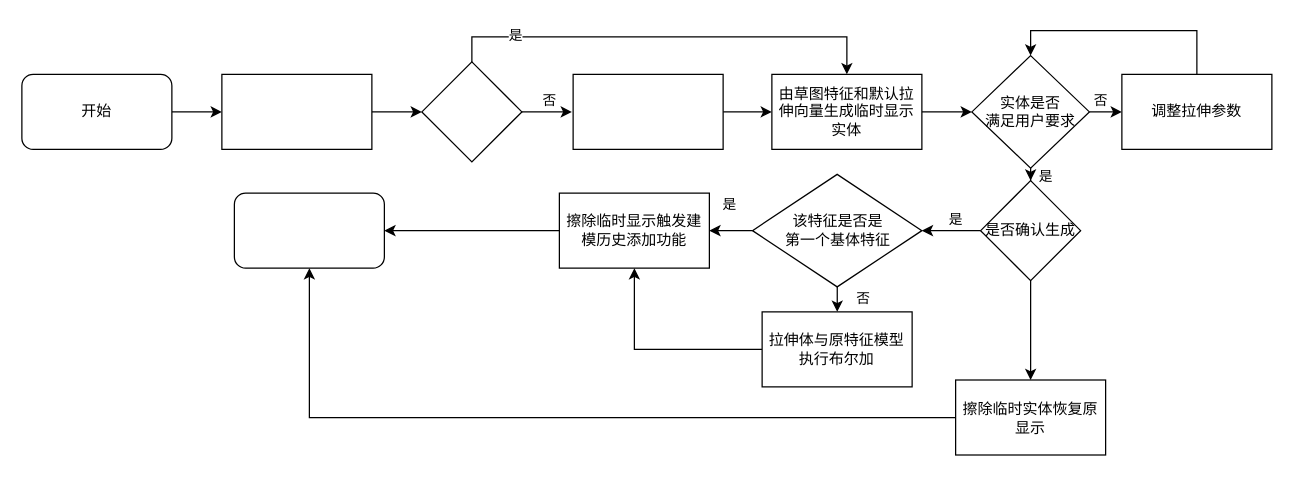
Image size: 1294x478. Some labels were removed from this diagram. The centre of each missing label's shape, as x and y in pixels:
"工具栏点击拉伸特征命令" belongs at [296,111].
"弹出可用草图对话框供用户选择" belongs at [647,111].
"是否选中 草图特征" belongs at [471,111].
"结束" belongs at [308,230].
